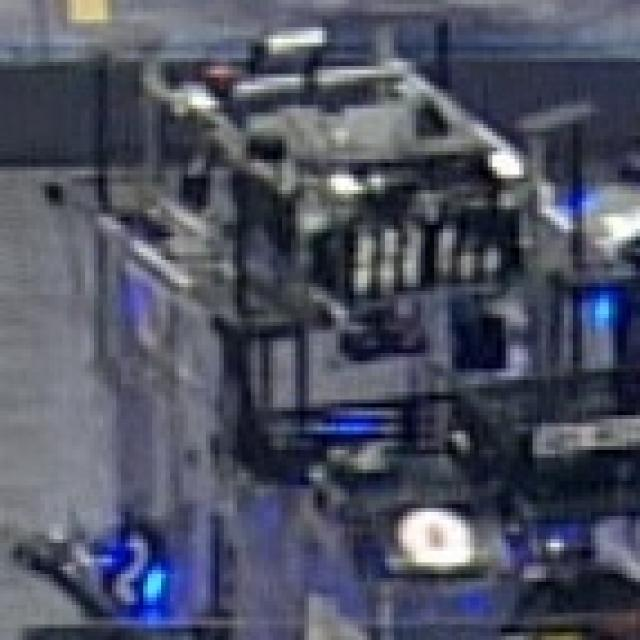B2: (103, 527, 166, 613)
